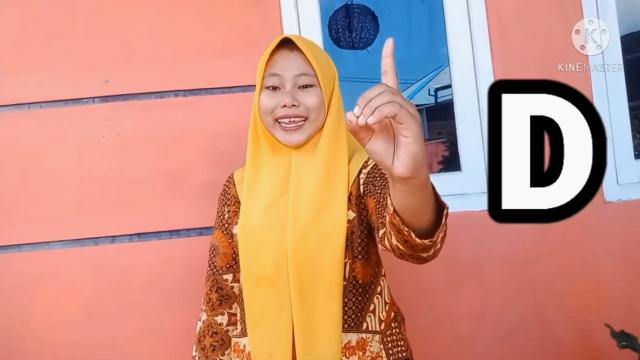D: (345, 35, 429, 182)
